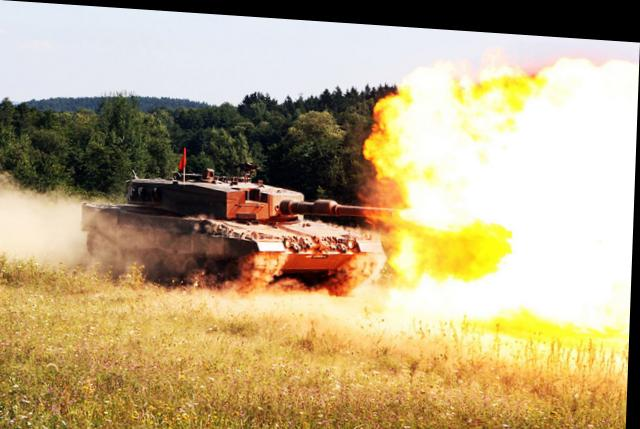tank: (78, 160, 381, 304)
